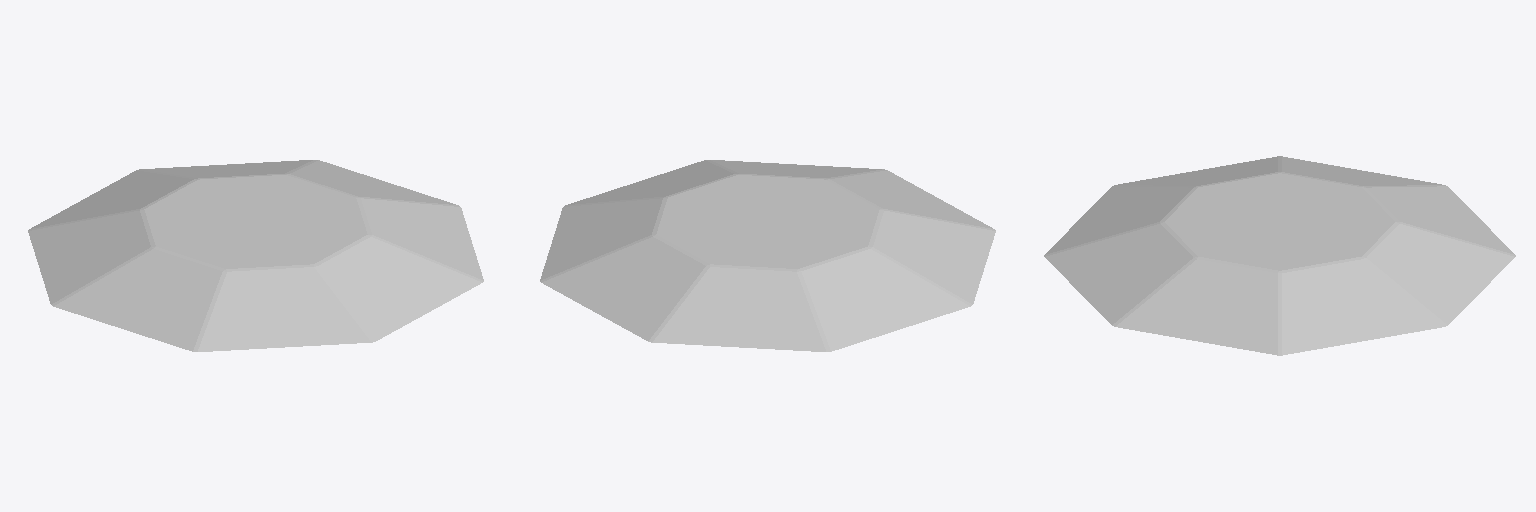
File: gem-8.obj
3 views of the same model, side by side, from view 1: azimuth 30°, elevation 25°; view 2: azimuth 150°, elevation 25°; view 3: azimuth 270°, elevation 25° (orthographic).
Parts seen in each view (by area): view 1: gem_Cylinder; view 2: gem_Cylinder; view 3: gem_Cylinder.
Boxes of the visible parts, x1,y1,x2,y2 form: gem_Cylinder: [28, 160, 483, 351]; gem_Cylinder: [540, 160, 995, 351]; gem_Cylinder: [1044, 156, 1515, 355].
Size of the model in its own units: 19.92 by 3.18 by 19.92.